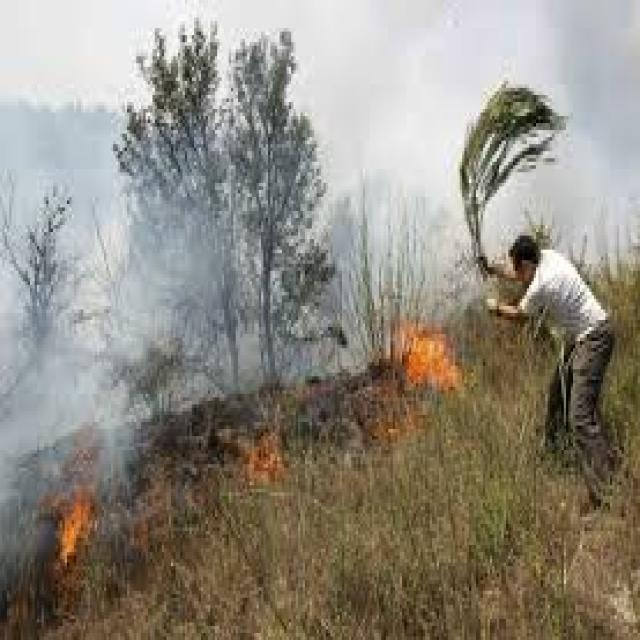Fire: (371, 308, 476, 441), (41, 491, 111, 568)
Smoke: (0, 131, 236, 507)
